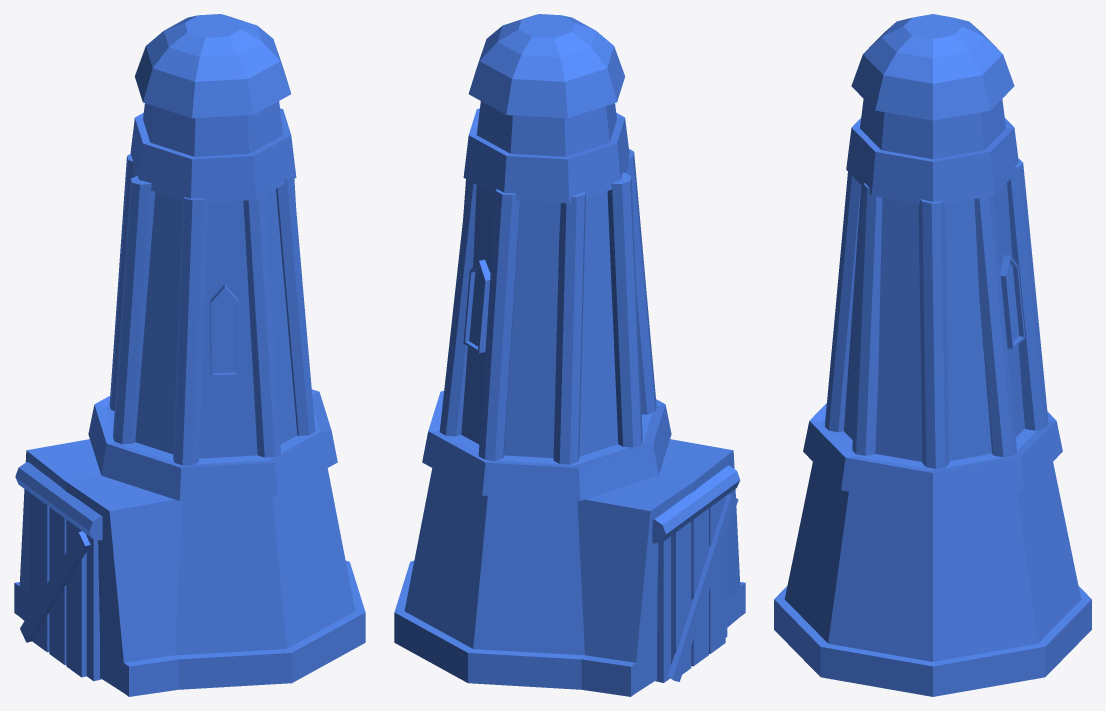
Rendered from Mill_Variant2.fbx.
3 views of the same model, side by side, from view 1: azimuth 30°, elevation 25°; view 2: azimuth 150°, elevation 25°; view 3: azimuth 270°, elevation 25° (orthographic).
Visible parts, largest first — view 1: Mill_Variant2; view 2: Mill_Variant2; view 3: Mill_Variant2.
Part boxes in pixels (x1,y1,x2,y2): Mill_Variant2: (14, 14, 365, 696); Mill_Variant2: (394, 14, 745, 696); Mill_Variant2: (774, 14, 1091, 696).
Bounding box in the file's own units: 260 × 502 × 240.
